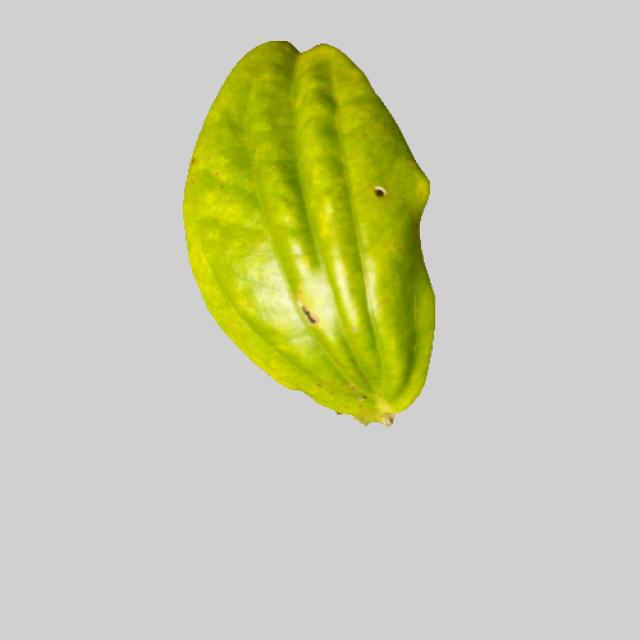yellow-mottle-virus: (172, 38, 439, 425)
